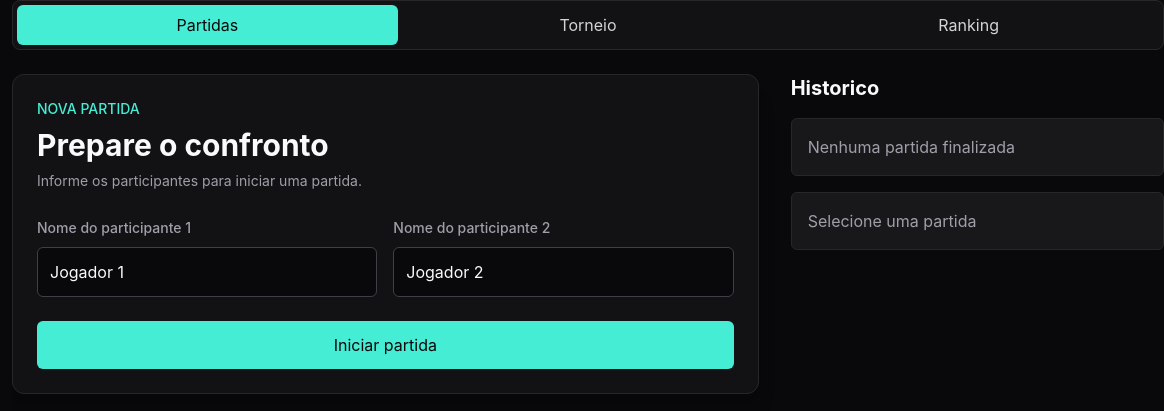
Test: TennisWorkspace › uses the same ranking-only content as the generic scoreboard
Click the button "Ranking" at coordinates (969, 25), box [778,5,1159,45]
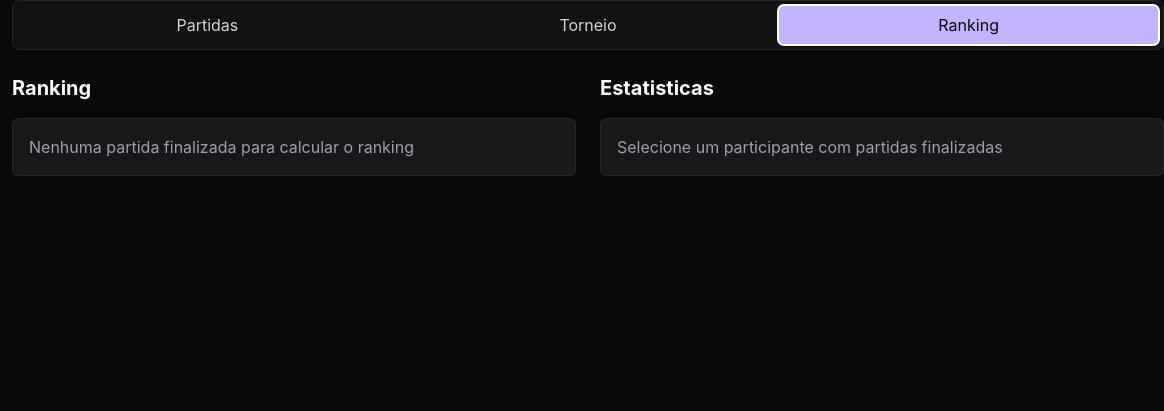
Expected: the heading "Ranking" is shown, [12,76,91,100]
Expected: the heading "Estatisticas" is shown, [600,76,714,100]
Expected: the heading "Historico" is gone
